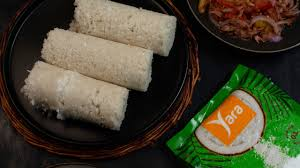pittu: (30, 2, 181, 134)
